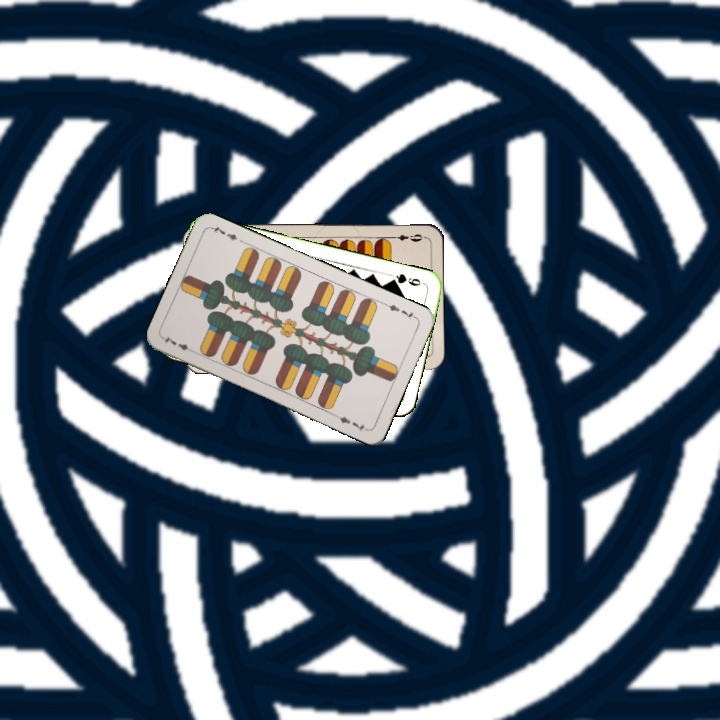E7: (159, 332, 198, 356), (381, 299, 419, 322)
E9: (386, 230, 427, 244)
G9: (386, 270, 423, 289)
